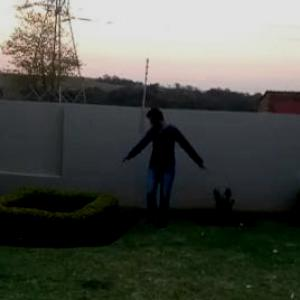land: (113, 103, 215, 244)
